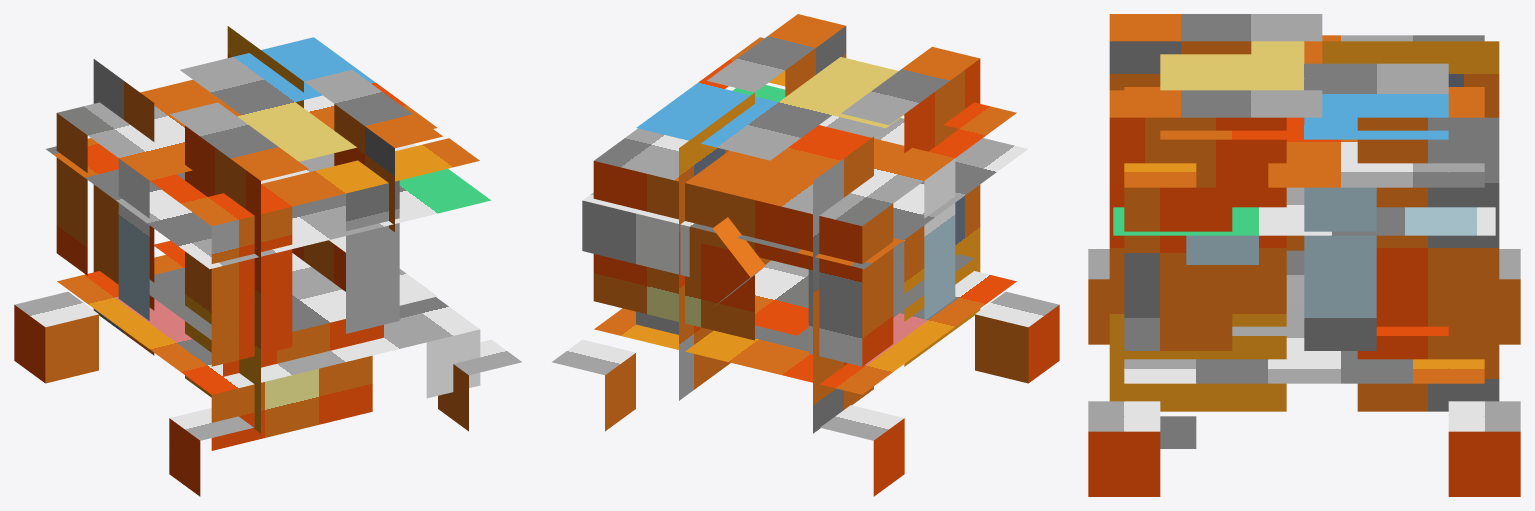
Rendered from common-crate-named-nodes.gltf.
3 views of the same model, side by side, from view 1: azimuth 30°, elevation 25°; view 2: azimuth 150°, elevation 25°; view 3: azimuth 270°, elevation 25° (orthographic). The views are drawn at different scales.
Visible parts, largest first — view 1: cube (×10); view 2: cube (×11); view 3: cube (×11).
Part boxes in pixels (bbox=[...]): cube (×10): bbox=[14, 26, 521, 496]; cube (×11): bbox=[552, 14, 1059, 496]; cube (×11): bbox=[1088, 14, 1520, 496].
Bounding box in the file's own units: 0.5 × 0.4333 × 0.5.
